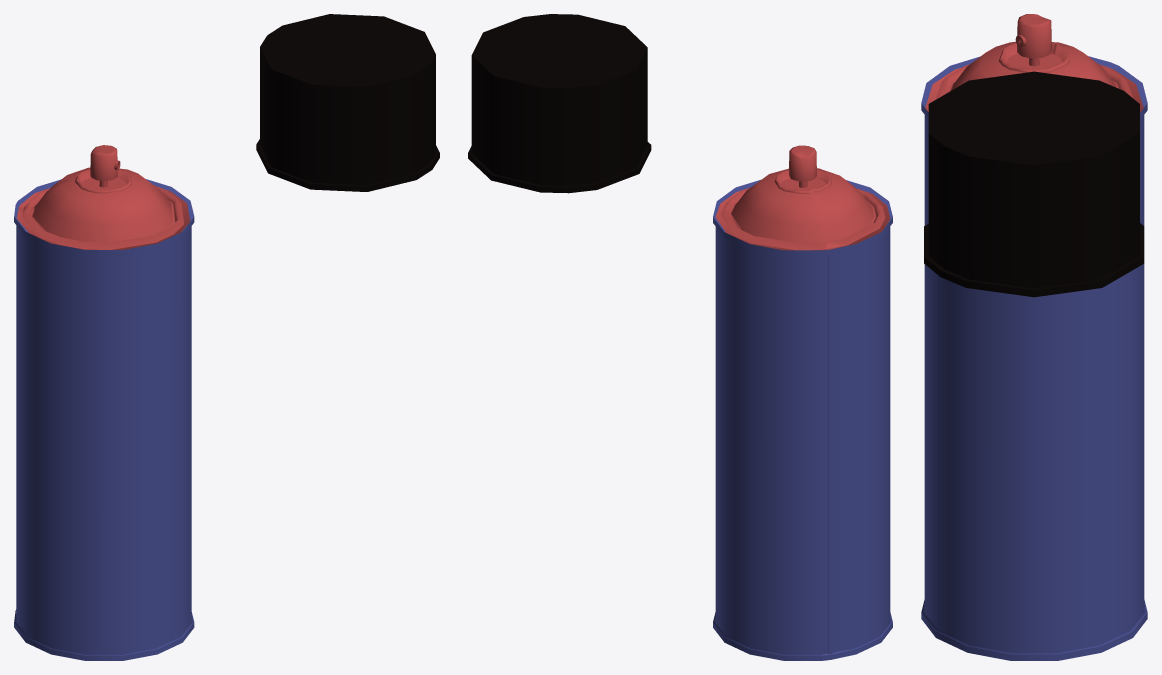
The model's file is Product 3.fbx.
3 views of the same model, side by side, from view 1: azimuth 30°, elevation 25°; view 2: azimuth 150°, elevation 25°; view 3: azimuth 270°, elevation 25° (orthographic). The views are drawn at different scales.
Visible parts, largest first — view 1: polySurface2, polySurface4, polySurface1; view 2: polySurface2, polySurface4, polySurface1; view 3: polySurface2, polySurface4, polySurface1.
Part boxes in pixels (left/top/right/bottom): polySurface2: left=14, top=167, right=194, bottom=660; polySurface4: left=256, top=14, right=439, bottom=191; polySurface1: left=90, top=145, right=117, bottom=181; polySurface2: left=713, top=168, right=892, bottom=660; polySurface4: left=468, top=14, right=651, bottom=193; polySurface1: left=789, top=145, right=816, bottom=181; polySurface2: left=921, top=41, right=1147, bottom=660; polySurface4: left=924, top=71, right=1144, bottom=297; polySurface1: left=1017, top=14, right=1051, bottom=58.
Size of the model in its own units: 2.7 by 3.3 by 1.05.
